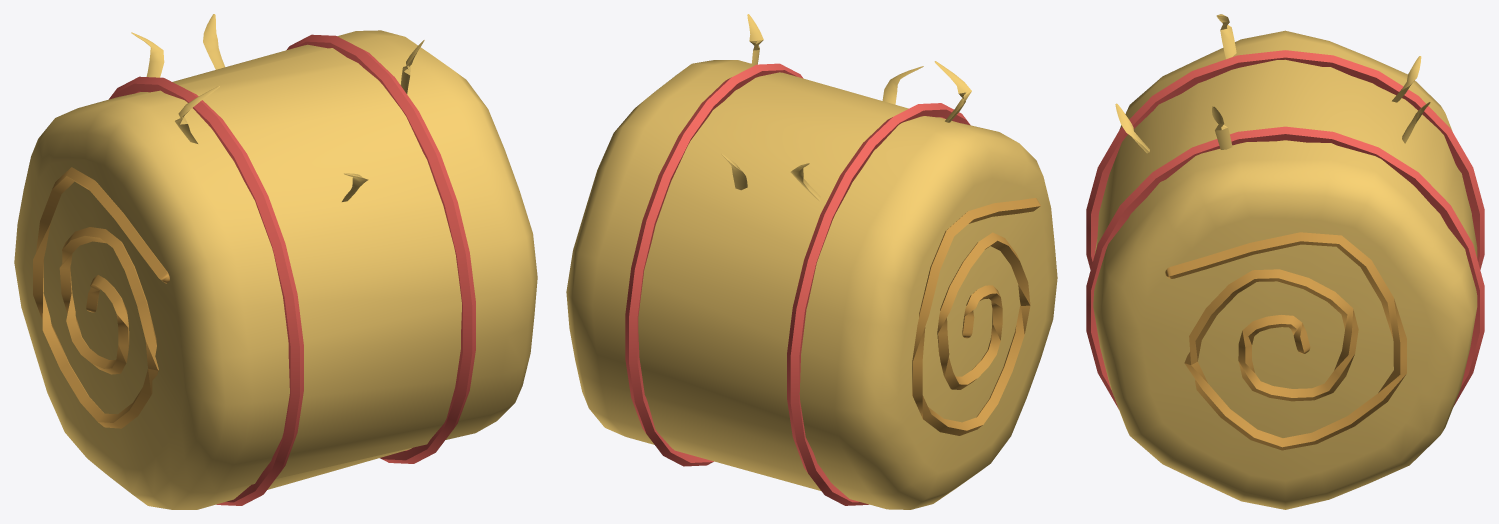
Rendered from prop_hay.glb.
3 renders of one model, left to right at view 1: azimuth 30°, elevation 25°; view 2: azimuth 150°, elevation 25°; view 3: azimuth 270°, elevation 25°, orthographic. The views are drawn at different scales.
Parts seen in each view (by area): view 1: prop_hay; view 2: prop_hay; view 3: prop_hay.
Boxes of the visible parts, left/top/right/bottom form: prop_hay: left=14, top=14, right=537, bottom=509; prop_hay: left=566, top=14, right=1057, bottom=509; prop_hay: left=1086, top=14, right=1484, bottom=509.
Size of the model in its own units: 0.838 by 0.964 by 0.8815.
